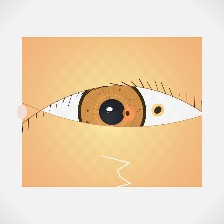foreign_body_visible: (115, 103, 140, 124)
